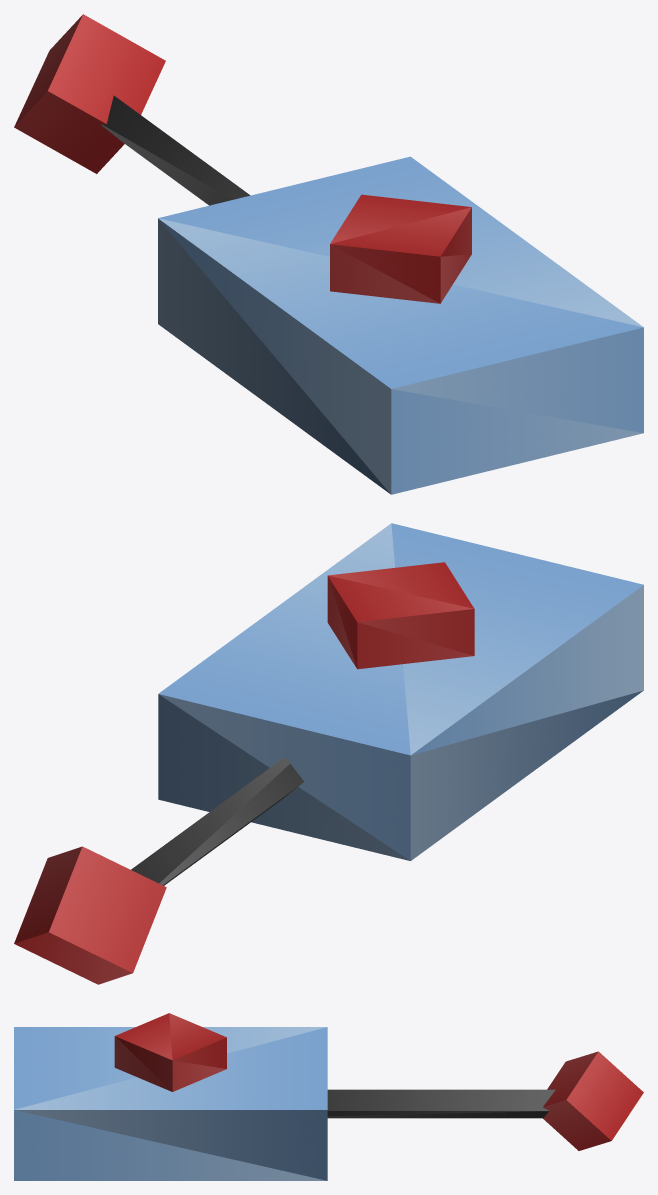
File: Controller_Art.fbx
The picture shows the model from 3 angles, top to bottom: view 1: azimuth 30°, elevation 25°; view 2: azimuth 150°, elevation 25°; view 3: azimuth 270°, elevation 25°; orthographic projection. The views are drawn at different scales.
Parts seen in each view (by area): view 1: Controller; view 2: Controller; view 3: Controller.
Boxes of the visible parts, bbox=[...] form: Controller: bbox=[14, 14, 643, 494]; Controller: bbox=[14, 523, 643, 984]; Controller: bbox=[14, 1013, 643, 1180].
Bounding box in the file's own units: 25 × 16.13 × 80.32.
1 material, 1 textured.
